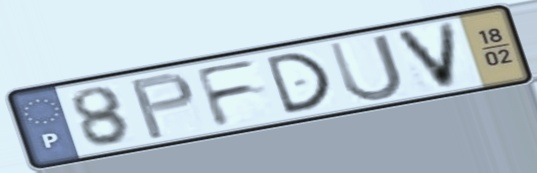8: (67, 85, 134, 149)
D: (261, 49, 335, 118)
F: (190, 56, 263, 131)
P: (126, 69, 198, 142)
U: (324, 31, 408, 105)
V: (389, 18, 461, 92)
